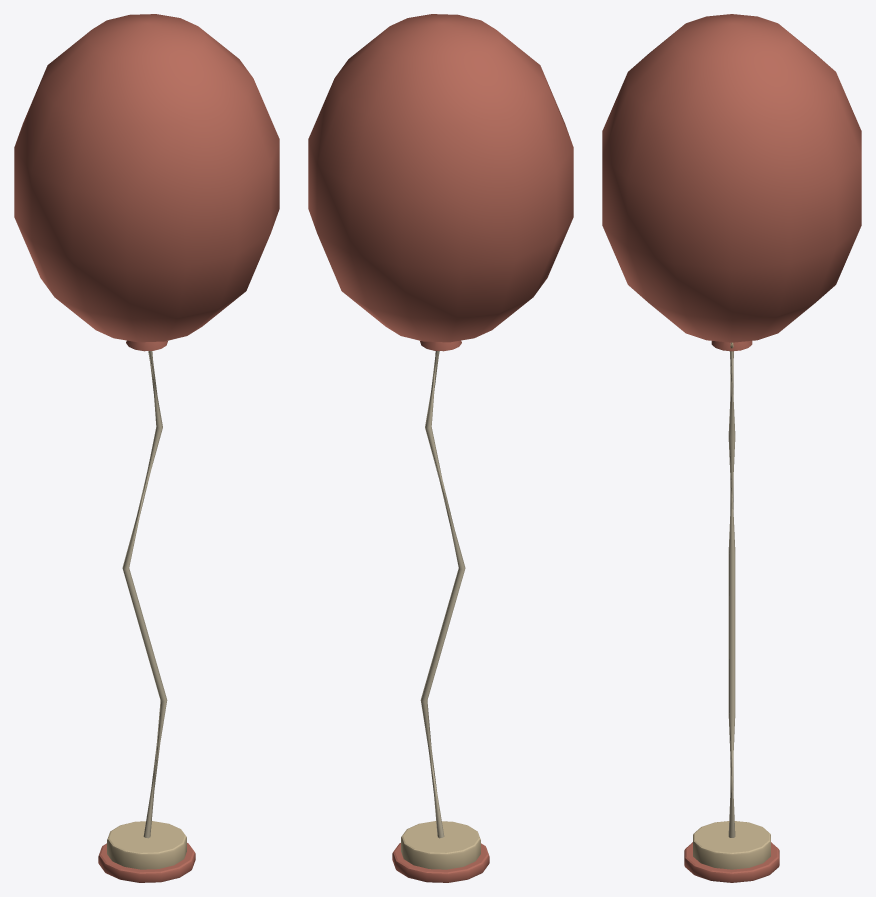
File: balloon.glb
The picture shows the model from 3 angles, left to right: view 1: azimuth 30°, elevation 25°; view 2: azimuth 150°, elevation 25°; view 3: azimuth 270°, elevation 25°; orthographic projection.
Size of the model in its own units: 0.273 by 0.95 by 0.2661.
